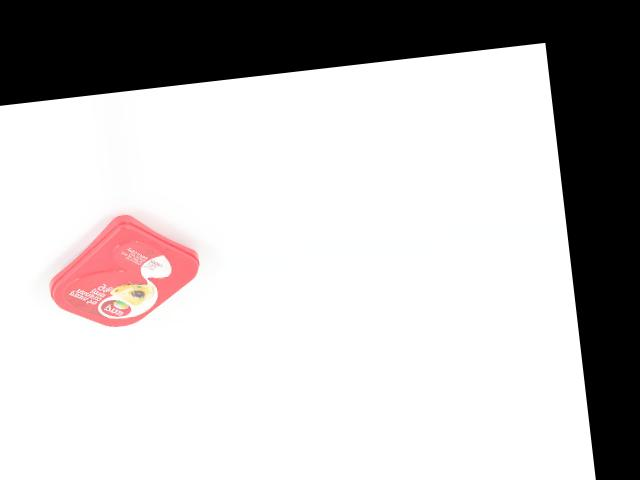cheese: (41, 206, 206, 334)
